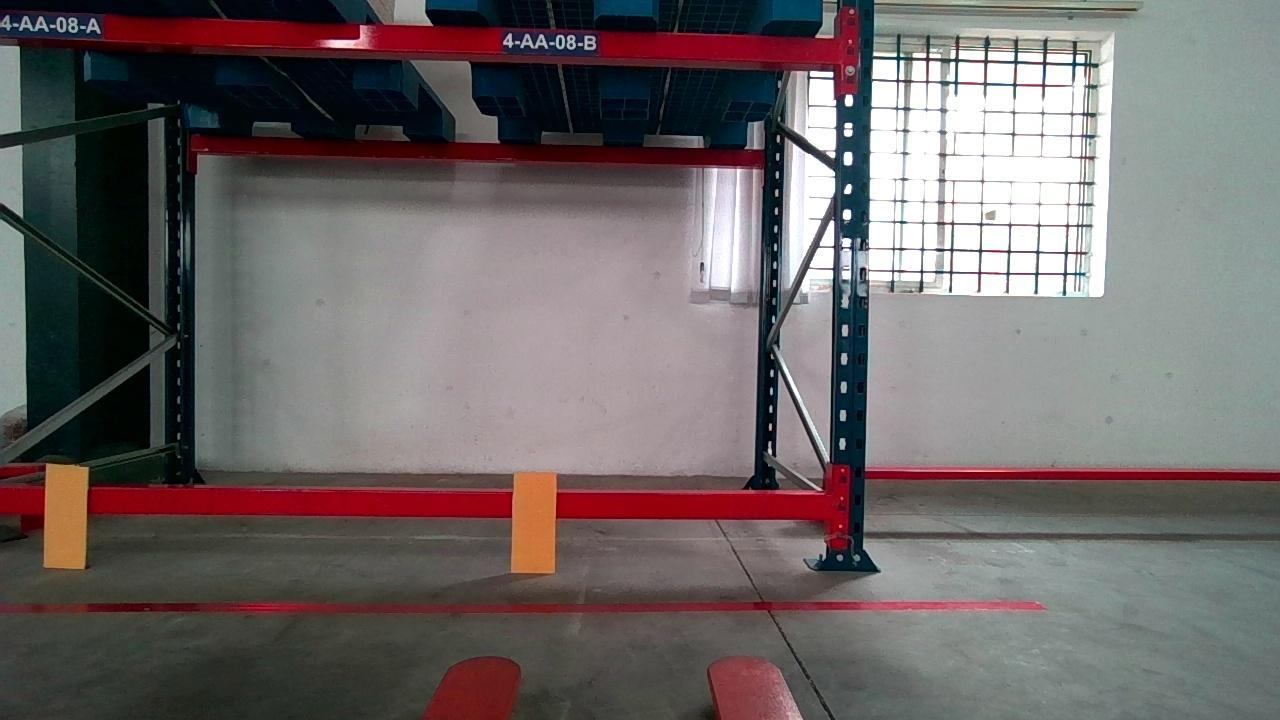h_rack: (1, 10, 843, 65), (0, 483, 833, 516)
orange_strip: (511, 470, 557, 573), (43, 462, 85, 569)
red_line: (0, 599, 1049, 612)
